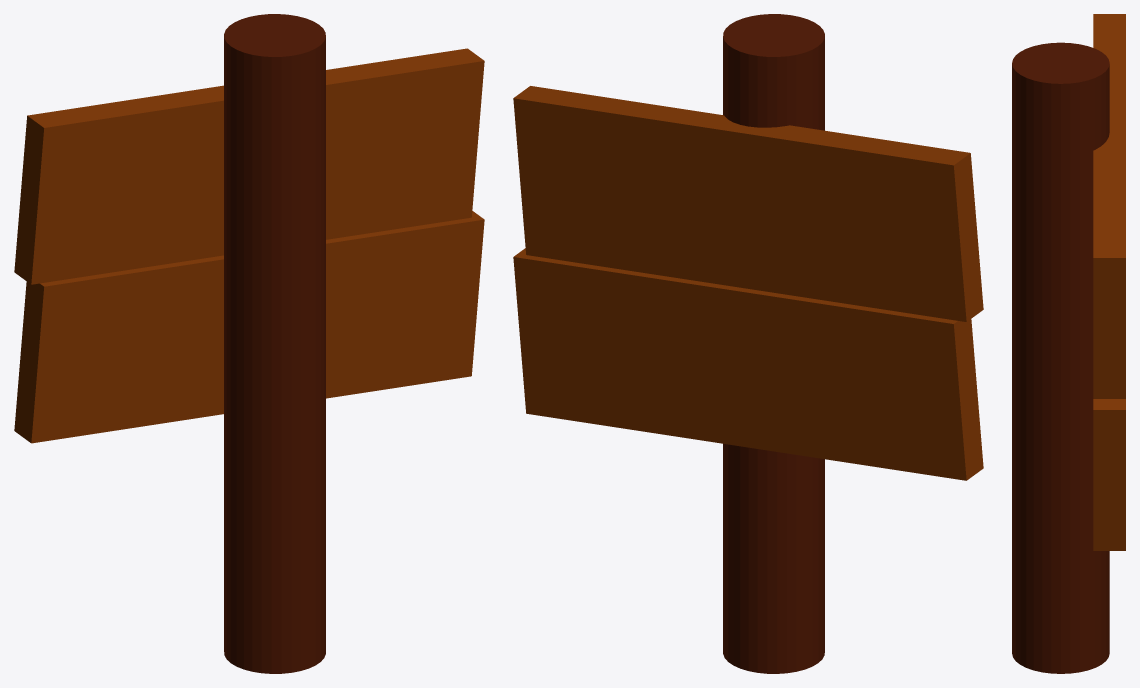
Rendered from Sign.fbx.
3 views of the same model, side by side, from view 1: azimuth 30°, elevation 25°; view 2: azimuth 150°, elevation 25°; view 3: azimuth 270°, elevation 25° (orthographic). The views are drawn at different scales.
Visible parts, largest first — view 1: Sign; view 2: Sign; view 3: Sign.
Part boxes in pixels (<box>): Sign: <box>14,14,484,673</box>; Sign: <box>513,14,983,673</box>; Sign: <box>1012,14,1125,673</box>.
Size of the model in its own units: 308 by 70 by 400.
